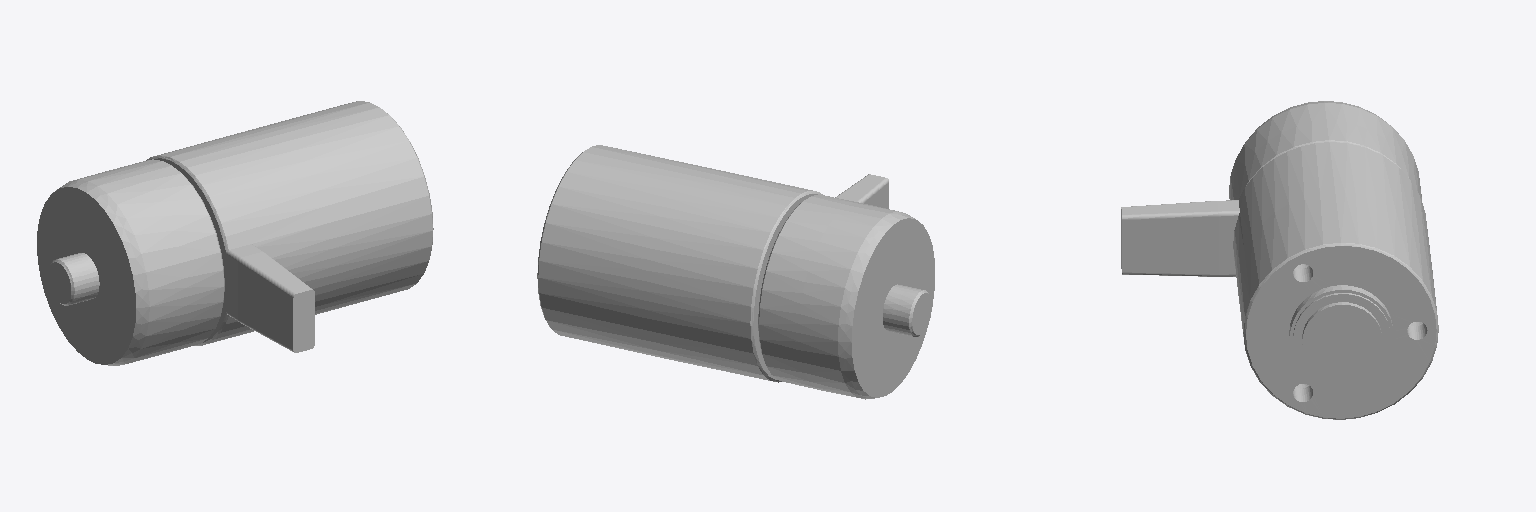
File: motor_left_front.obj
3 views of the same model, side by side, from view 1: azimuth 30°, elevation 25°; view 2: azimuth 150°, elevation 25°; view 3: azimuth 270°, elevation 25° (orthographic).
Parts seen in each view (by area): view 1: Body2.012; view 2: Body2.012; view 3: Body2.012.
Boxes of the visible parts, <box> form: Body2.012: <box>37,101,433,365</box>; Body2.012: <box>537,145,934,399</box>; Body2.012: <box>1121,101,1438,419</box>.
Bounding box in the file's own units: 0.0507 × 0.0244 × 0.0396.